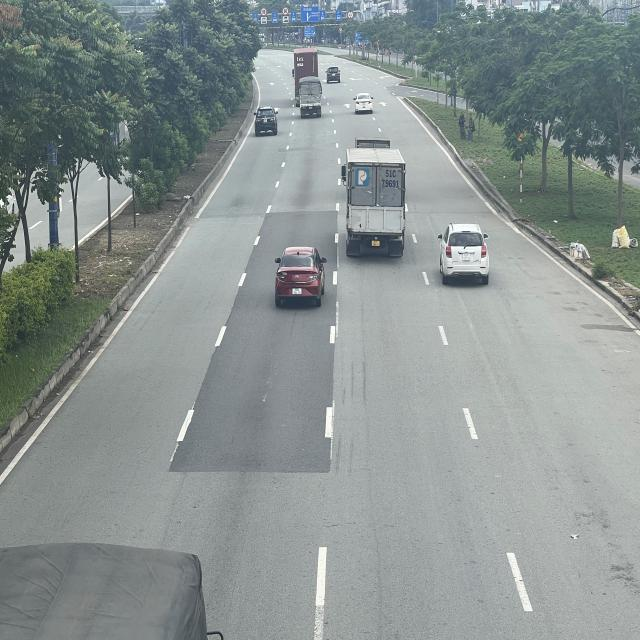car: (438, 224, 491, 284), (274, 246, 326, 304), (253, 106, 280, 133), (353, 92, 373, 114), (325, 66, 342, 84)
truck: (341, 145, 406, 258), (299, 76, 323, 115)
